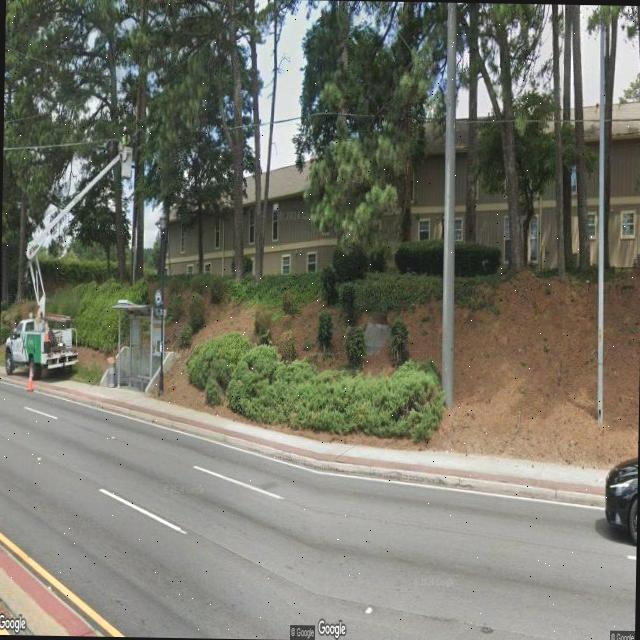seating: (136, 374, 150, 392)
shelter: (108, 300, 161, 394)
trash_can: (106, 356, 116, 388)
